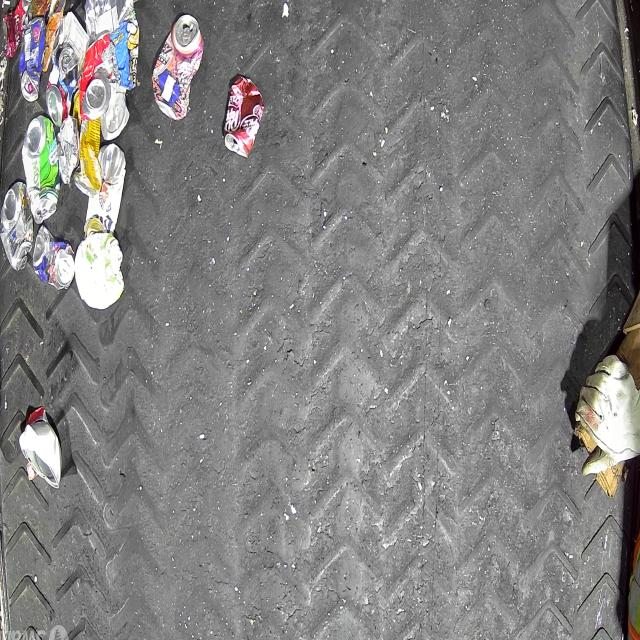can: (152, 13, 204, 122), (22, 114, 59, 224), (85, 143, 126, 240), (79, 32, 120, 121), (222, 74, 264, 158), (0, 181, 34, 271), (74, 89, 102, 198), (32, 224, 74, 290), (18, 17, 46, 102), (84, 0, 134, 38), (2, 0, 34, 59), (46, 64, 74, 128), (100, 86, 130, 140), (54, 45, 79, 85)
